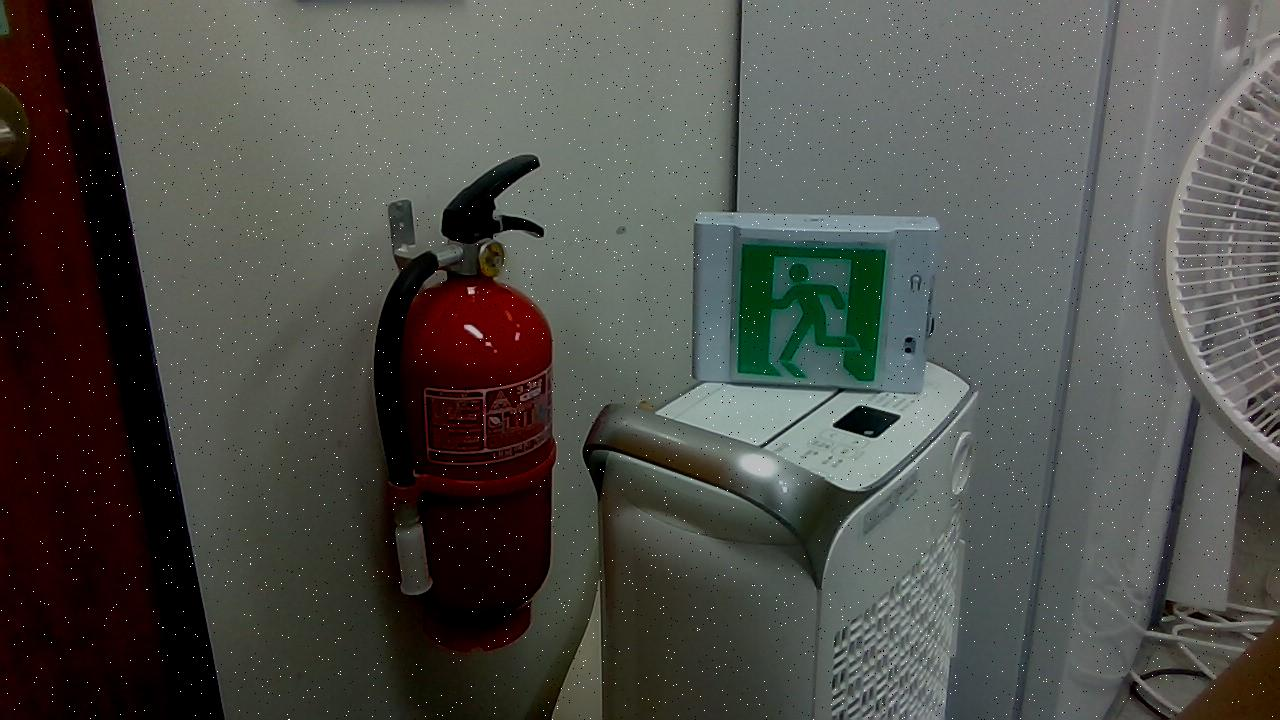emergency_exit: (371, 152, 559, 632), (691, 211, 940, 395)
